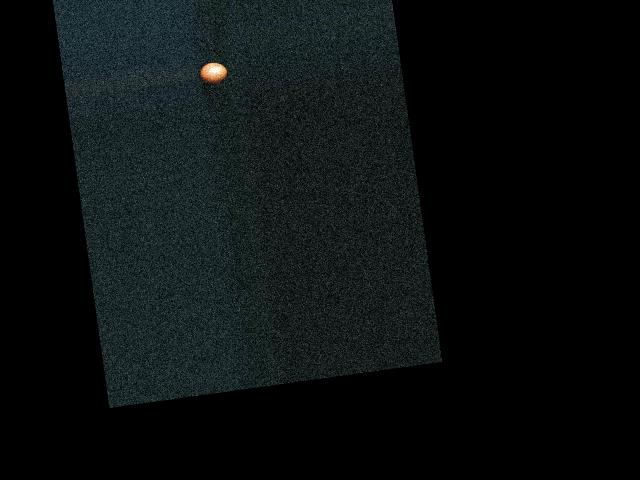egg: (198, 61, 228, 86)
